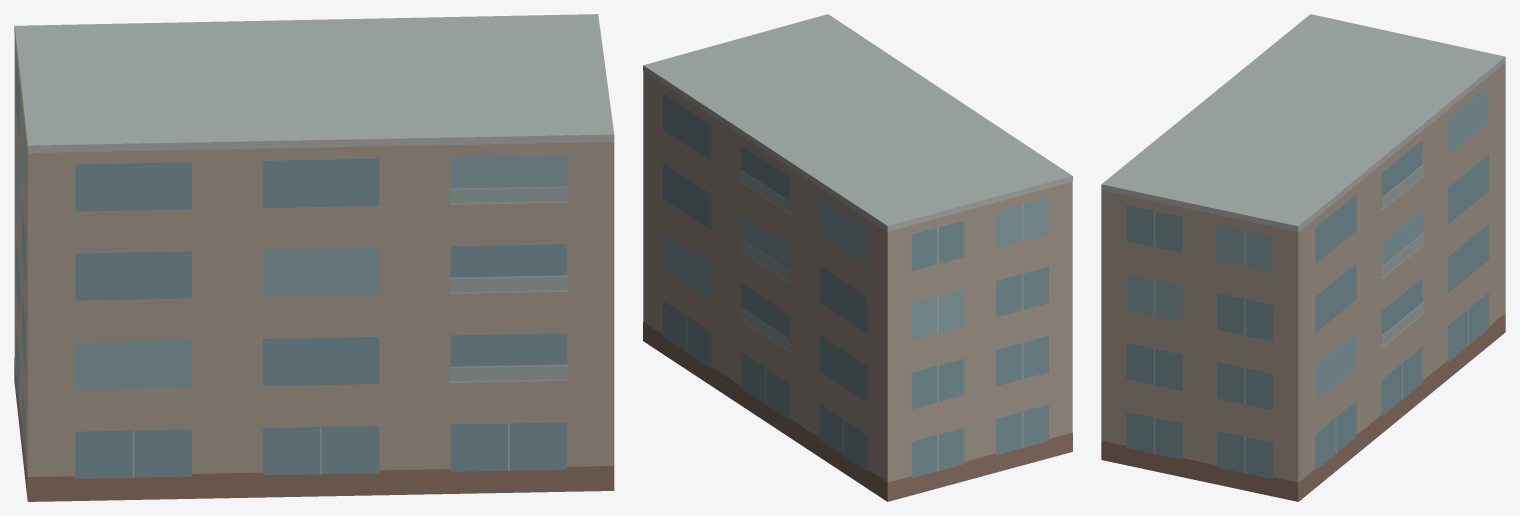
The model's file is survey-upis-32882535.glb.
3 renders of one model, left to right at view 1: azimuth 30°, elevation 25°; view 2: azimuth 150°, elevation 25°; view 3: azimuth 270°, elevation 25°, orthographic. The views are drawn at different scales.
Parts seen in each view (by area): view 1: survey-upis-32882535.tmp; view 2: survey-upis-32882535.tmp; view 3: survey-upis-32882535.tmp.
Part boxes in pixels (x1,y1,x2,y2): survey-upis-32882535.tmp: [14, 14, 614, 501]; survey-upis-32882535.tmp: [643, 14, 1072, 501]; survey-upis-32882535.tmp: [1101, 14, 1505, 501].
Size of the model in its own units: 19.18 by 11.6 by 15.44.
